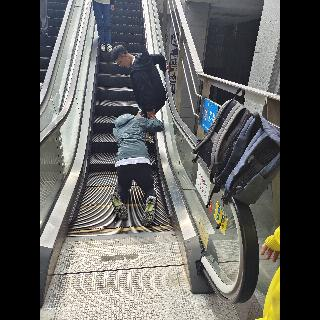anomaly: (111, 111, 170, 231)
normal: (111, 46, 173, 156), (90, 0, 113, 52)
